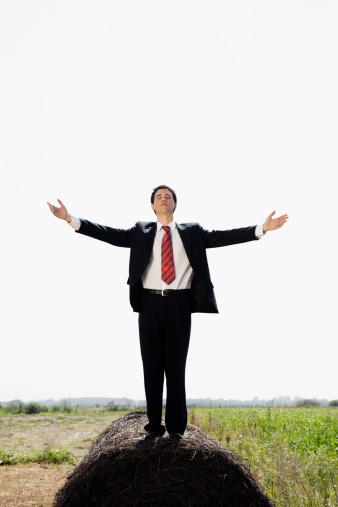em pe: (61, 170, 294, 435)
